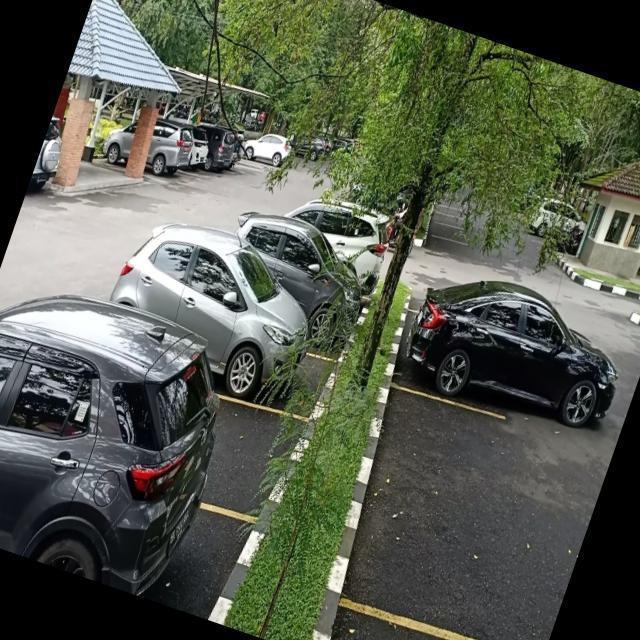Car: (390, 291, 626, 457), (202, 279, 359, 426)
Vacant: (324, 379, 612, 640)
